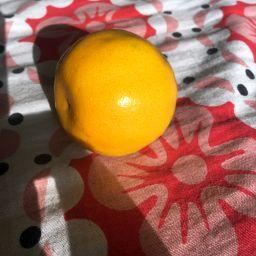Ripe: (56, 30, 175, 155)
